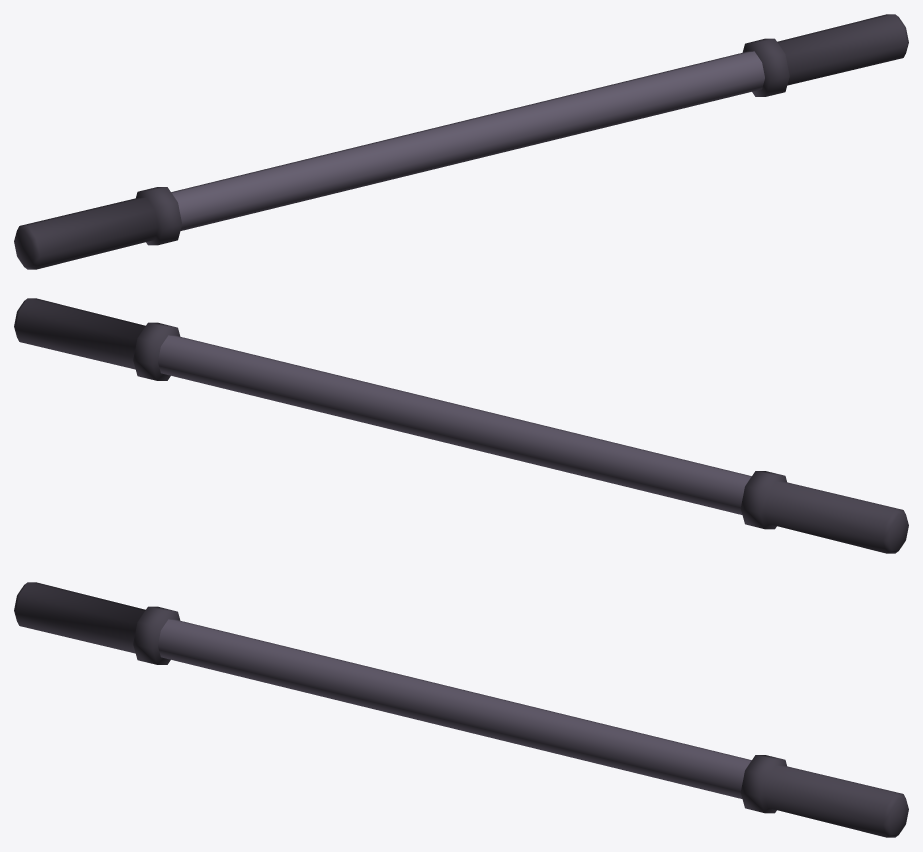
Rendered from scene_fYKSbYUG5G.glb.
The picture shows the model from 3 angles, top to bottom: view 1: azimuth 30°, elevation 25°; view 2: azimuth 150°, elevation 25°; view 3: azimuth 330°, elevation 25°; orthographic projection.
Visible parts, largest first — view 1: Barbell_v05; view 2: Barbell_v05; view 3: Barbell_v05.
Part boxes in pixels (x1,y1,x2,y2): Barbell_v05: (14,14,908,269); Barbell_v05: (14,298,908,553); Barbell_v05: (14,582,908,837).
Size of the model in its own units: 1.76 by 0.1029 by 0.1029.
Materials: 1 (1 with a texture image).
